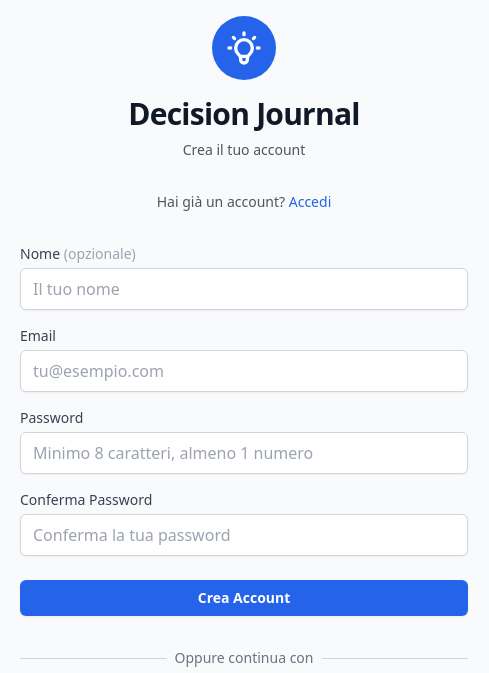
Signup Page › Form Validation › shows error when email format is invalid
Expected: the button "Crea Account" is shown, [20, 580, 468, 616]
# Use email that passes native validation but fails our custom regex
Type "test@domain" into the field labelled "Email" at (244, 371), box [20, 350, 468, 392]
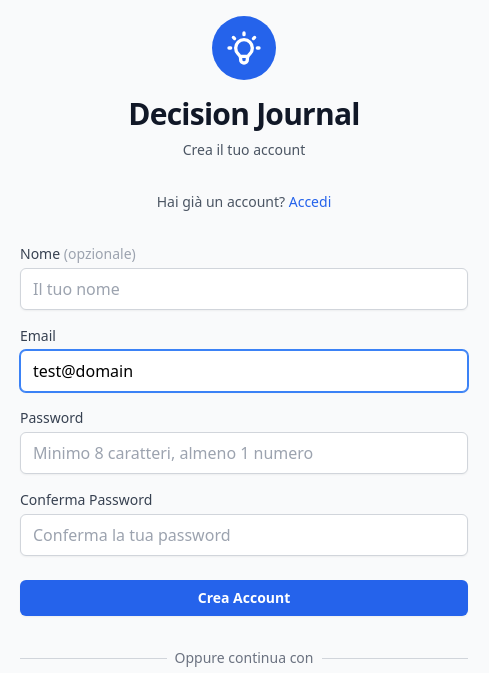
Type "password123" into the password field labelled "Password" at (244, 453), box [20, 432, 468, 474]
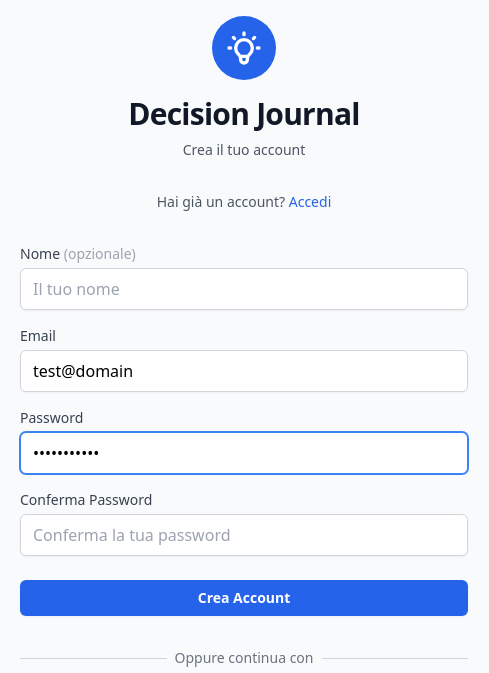
Type "password123" into the password field labelled "Conferma Password" at (244, 535), box [20, 514, 468, 556]
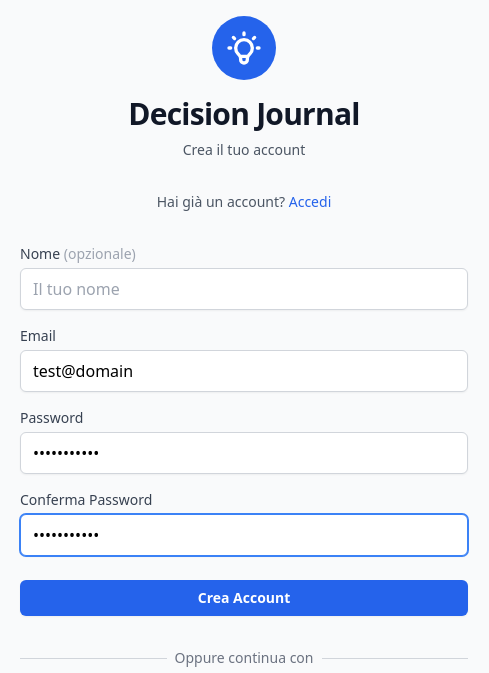
Click the button "Crea Account" at (244, 598), box [20, 580, 468, 616]
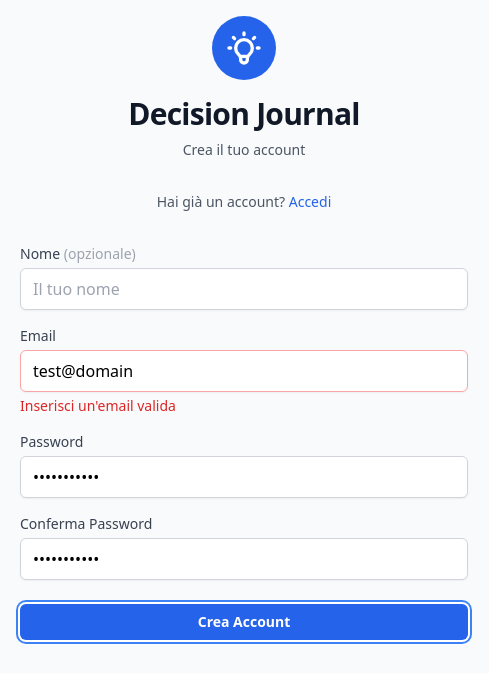
Expected: the text "Inserisci un'email valida" is shown, [20, 396, 176, 415]
